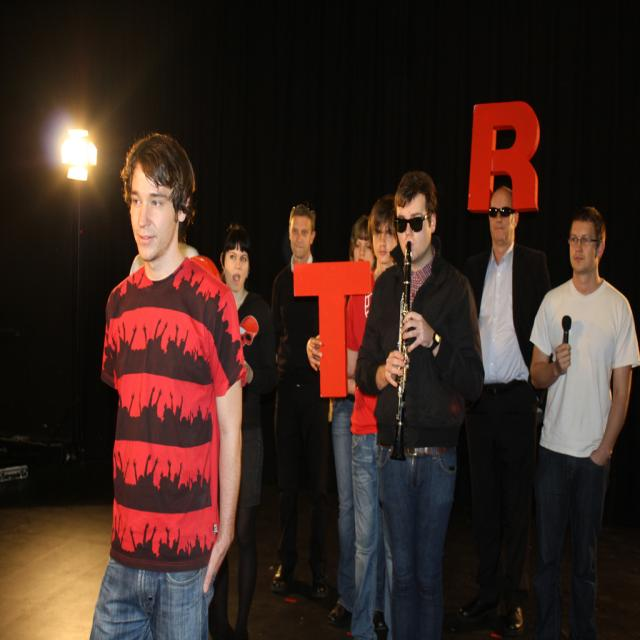clarinet: (388, 240, 418, 463)
